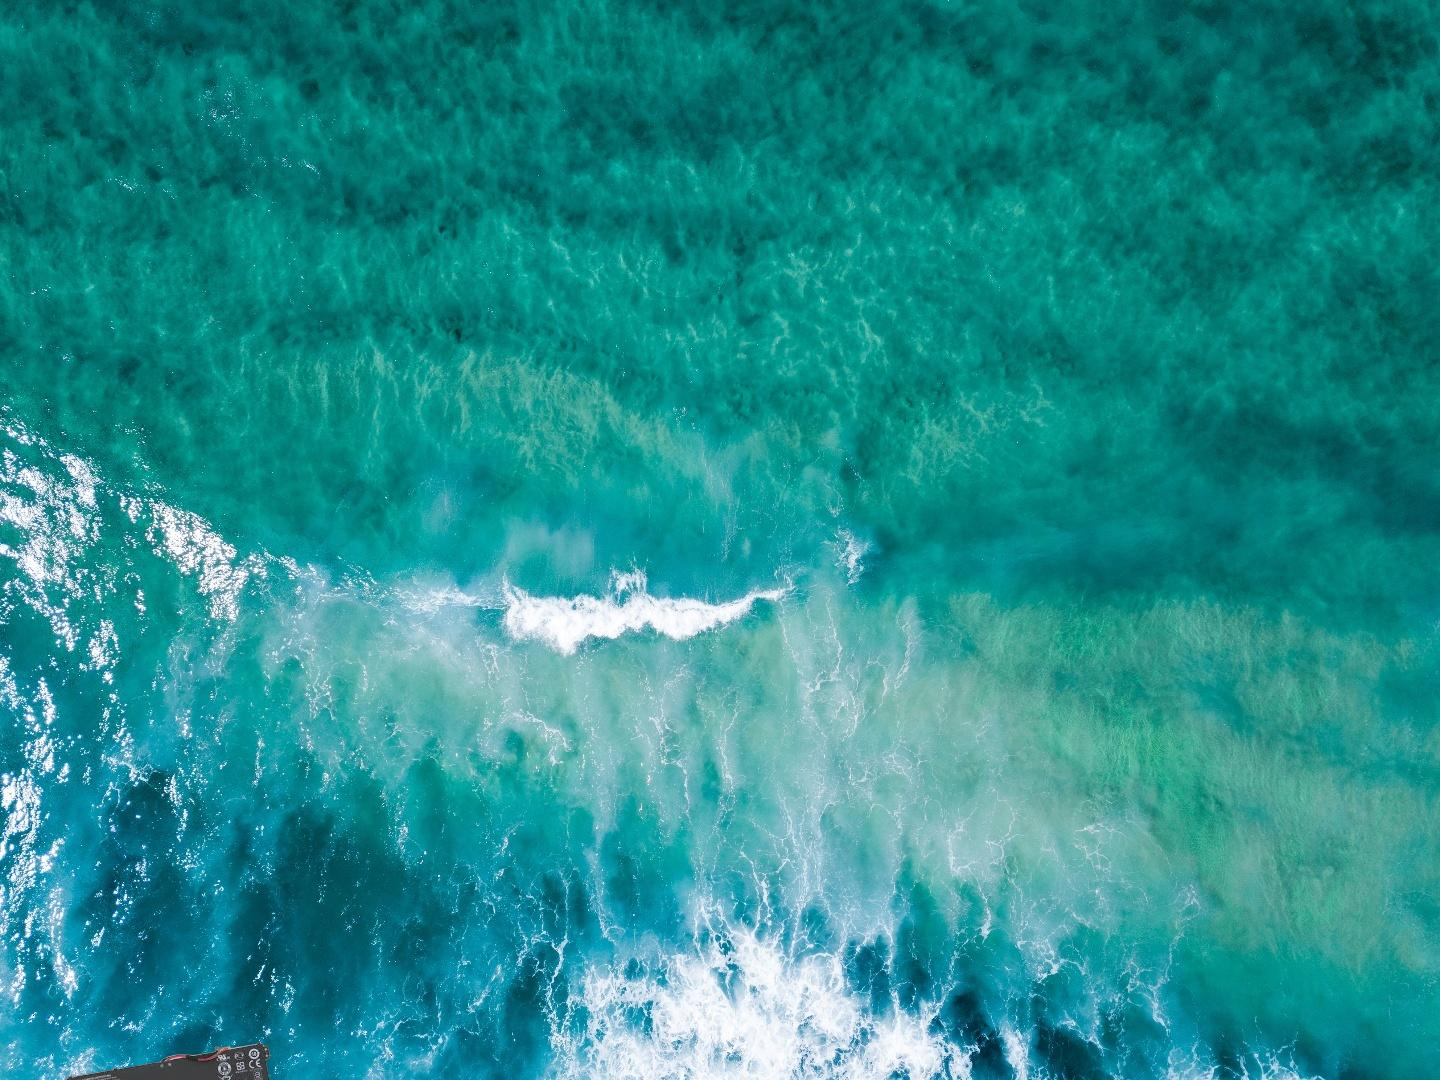battery: (59, 1040, 278, 1080)
metal-cans: (359, 834, 774, 1080)
